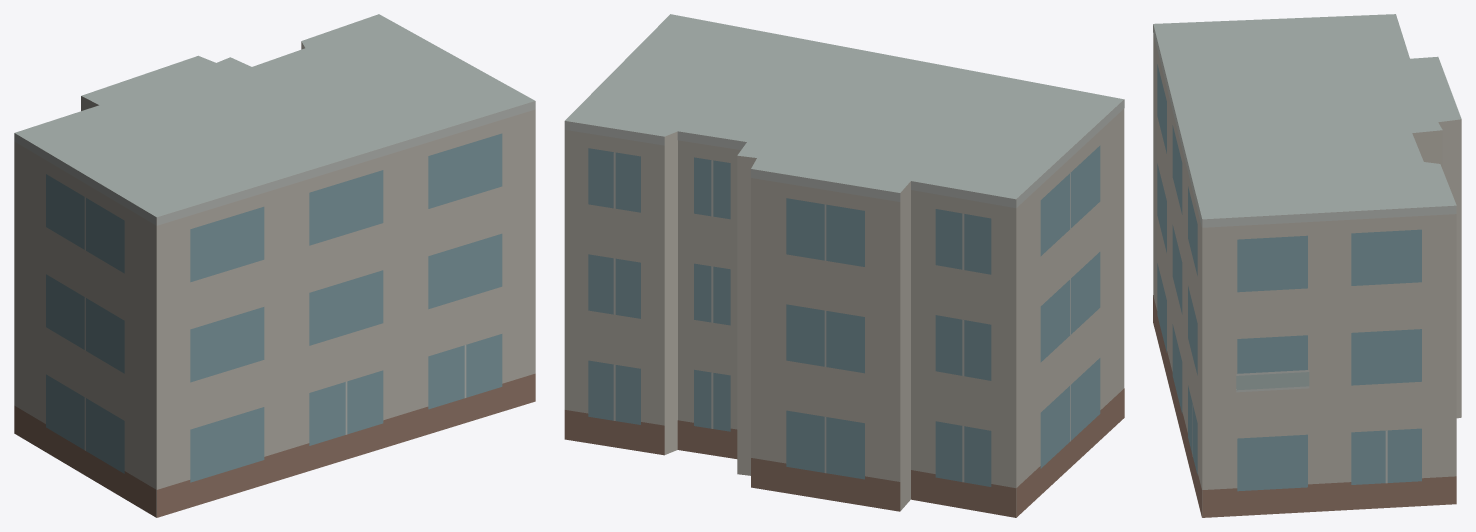
File: survey-upis-32577834.glb
3 renders of one model, left to right at view 1: azimuth 30°, elevation 25°; view 2: azimuth 150°, elevation 25°; view 3: azimuth 270°, elevation 25°, orthographic. The views are drawn at different scales.
Visible parts, largest first — view 1: survey-upis-32577834.tmp; view 2: survey-upis-32577834.tmp; view 3: survey-upis-32577834.tmp.
Boxes of the visible parts, x1,y1,x2,y2 form: survey-upis-32577834.tmp: (14, 14, 535, 517); survey-upis-32577834.tmp: (564, 14, 1124, 517); survey-upis-32577834.tmp: (1153, 14, 1461, 517).
Size of the model in its own units: 12.75 by 8.63 by 8.1.
